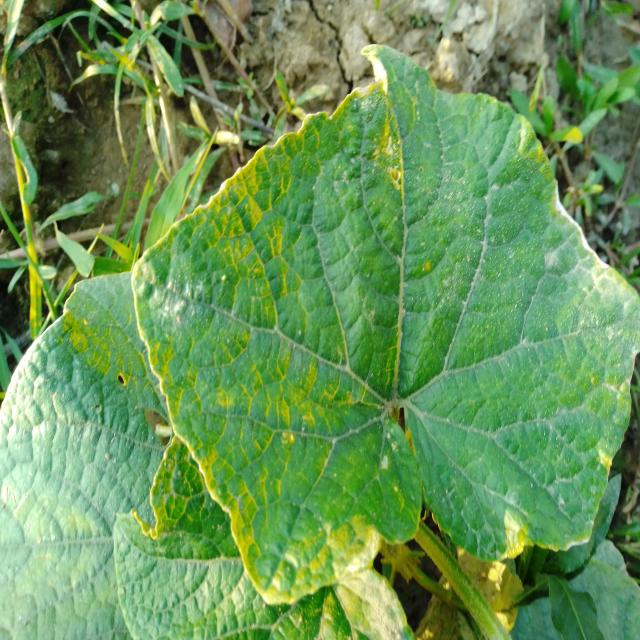cucumber_healthy: (126, 34, 640, 606), (2, 264, 413, 640)
